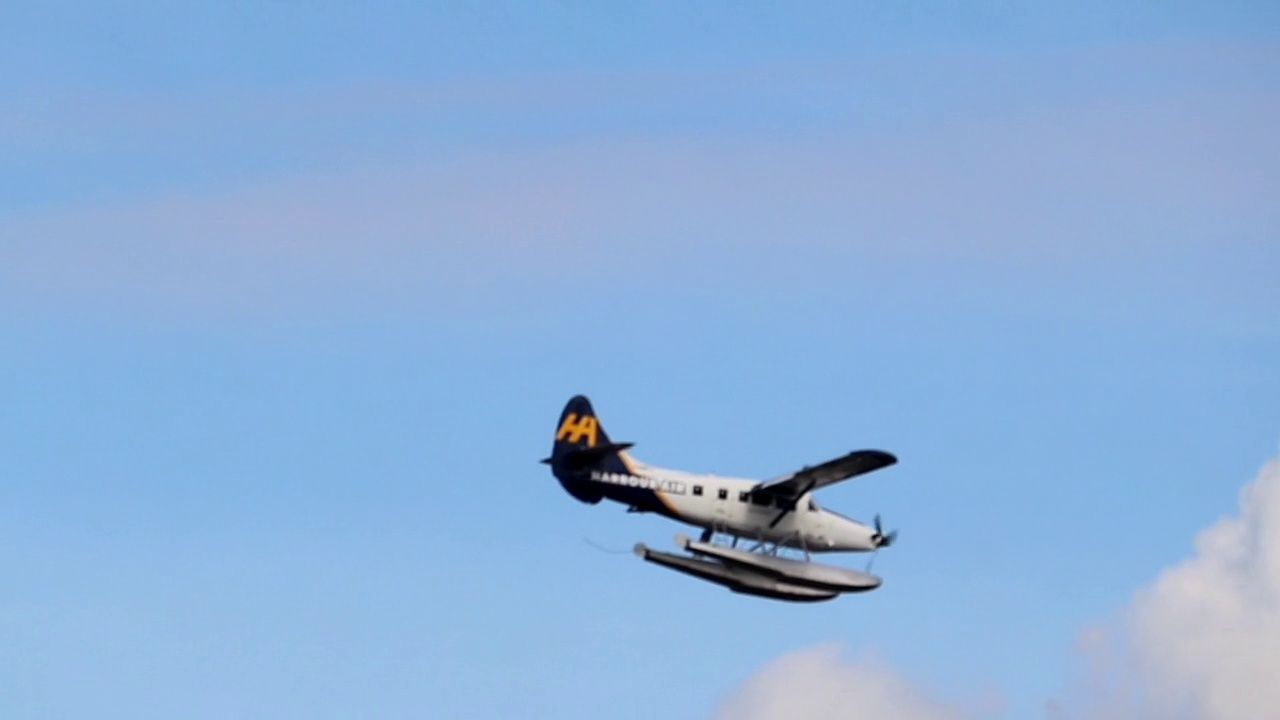plane: (538, 394, 898, 601)
